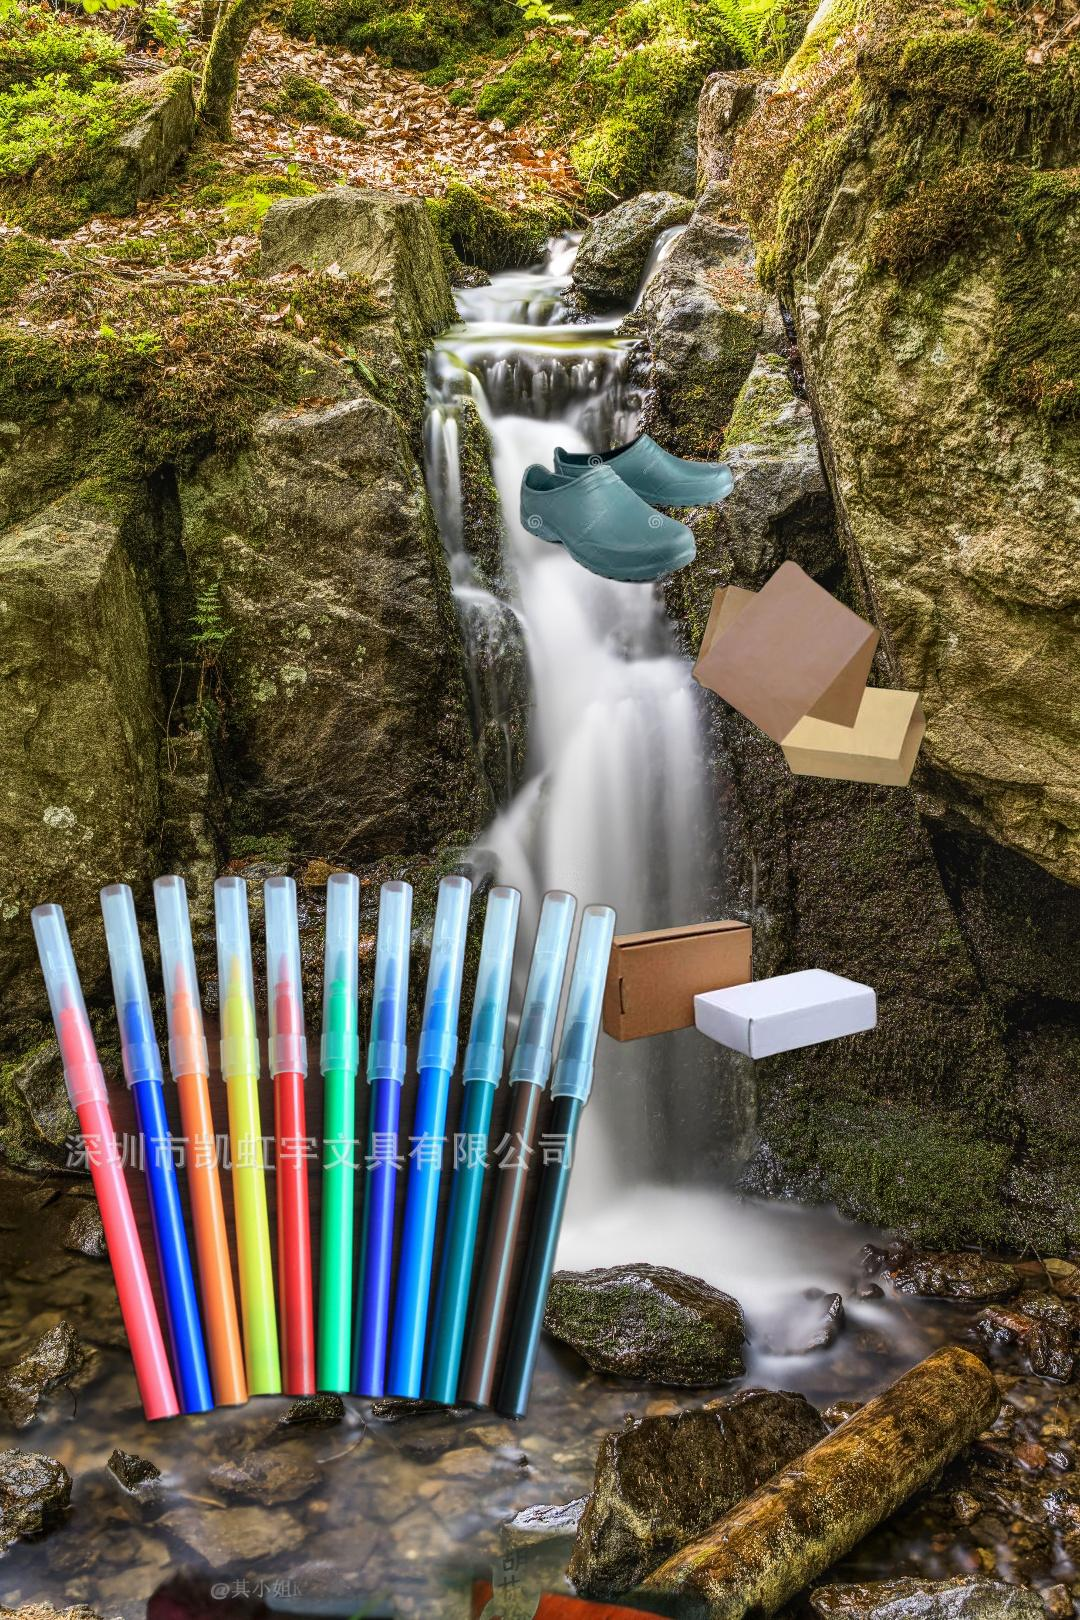biological: (67, 1369, 855, 1620)
paper-bag: (689, 554, 931, 798)
penholder: (24, 867, 622, 1433)
shoes: (517, 430, 736, 587)
trashbox-cardboard: (598, 918, 880, 1063)
